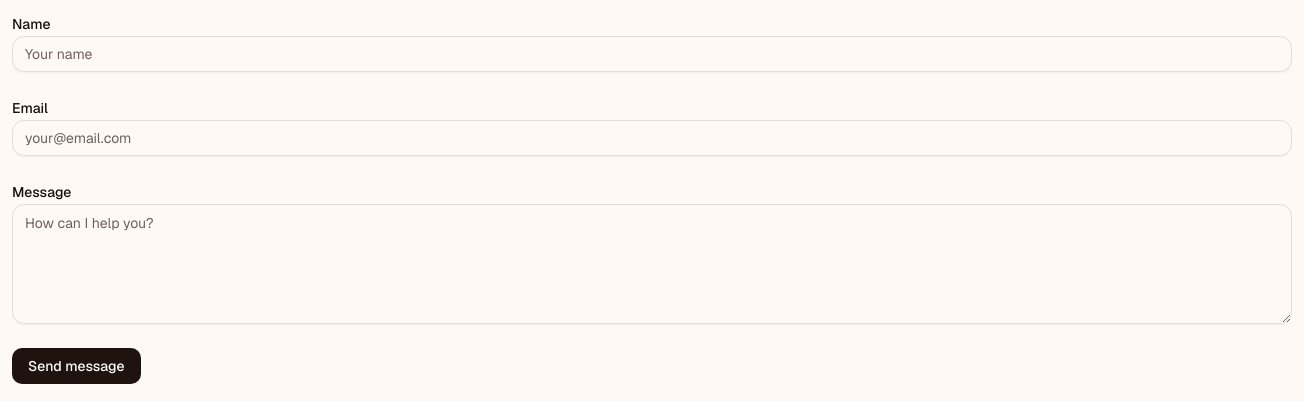
ContactForm › success state after submission (Requirement 8.3) › renders the success message after a valid submission is accepted
The image size is (1304, 401).
Type "Jane Doe" into the field labelled "Name".
click(652, 54); type("Jane Doe")  # box [12,36,1292,72]
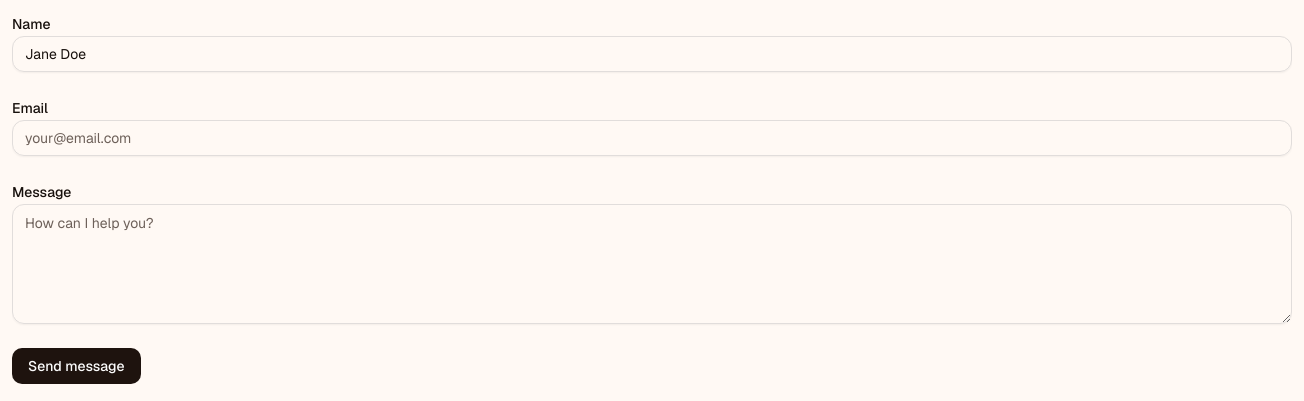
Type "jane@example.com" into the field labelled "Email".
click(652, 138); type("jane@example.com")  # box [12,120,1292,156]
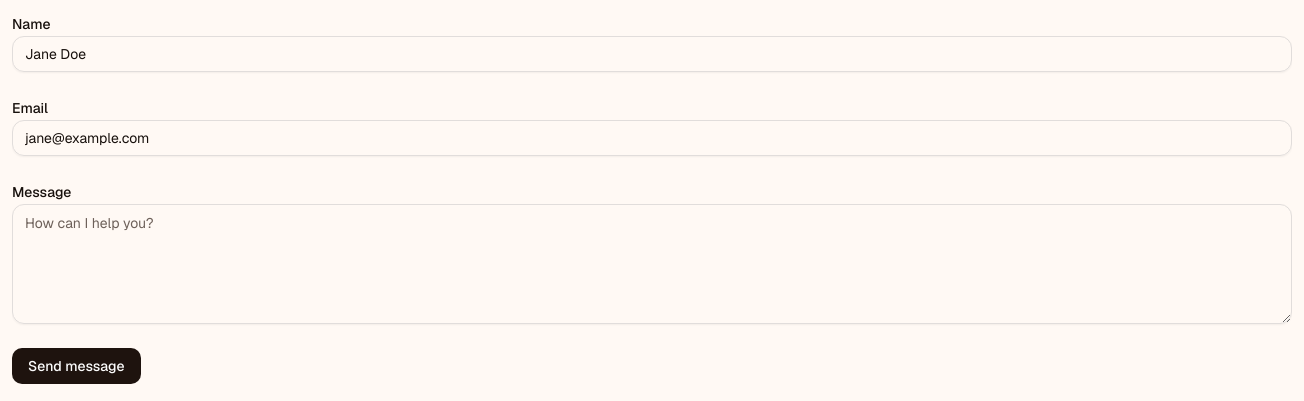
Type "I would love to discuss a collaboration opportunity." into the text box labelled "Message".
click(652, 264); type("I would love to discuss a collaboration opportunity.")  # box [12,204,1292,324]
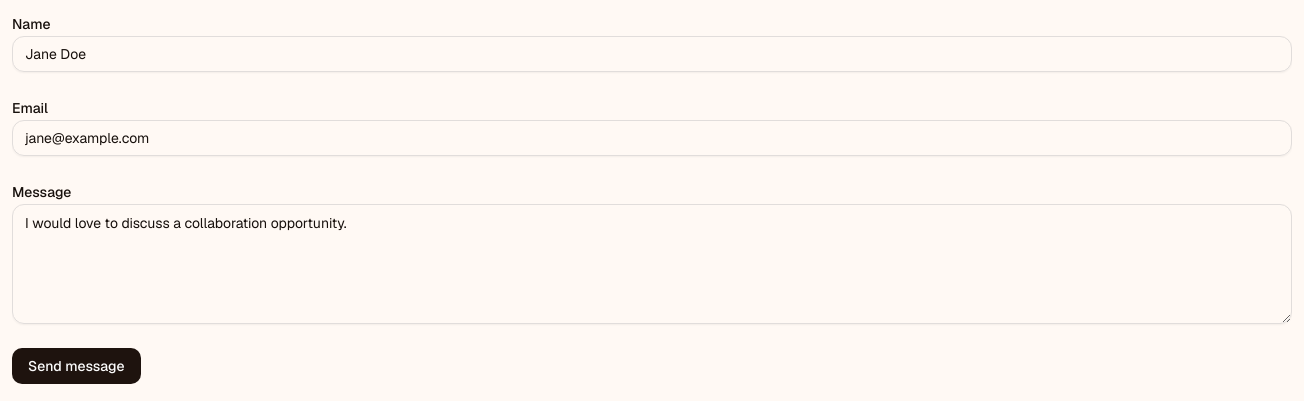
Click the button "Send message".
click(76, 366)  # box [12,348,140,384]
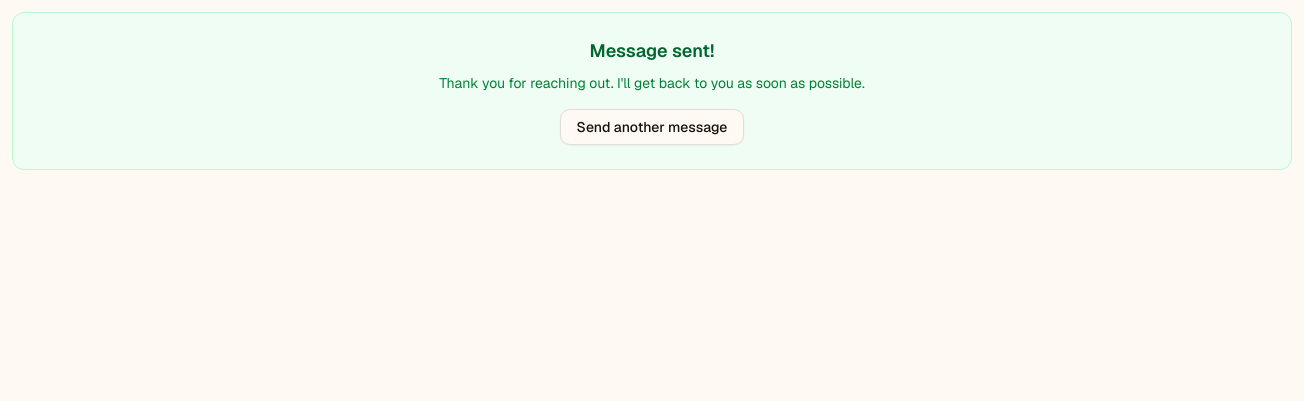
Result: the heading "Message sent!" is shown at [590,39,714,62]
Result: the button "Send another message" is shown at [560,109,744,145]
